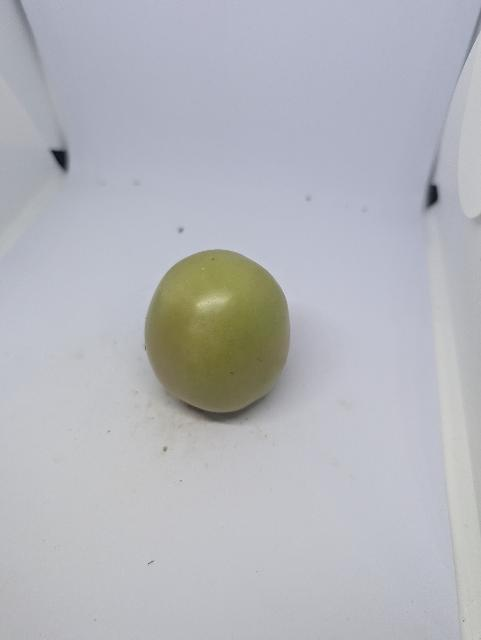green: (129, 235, 311, 439)
